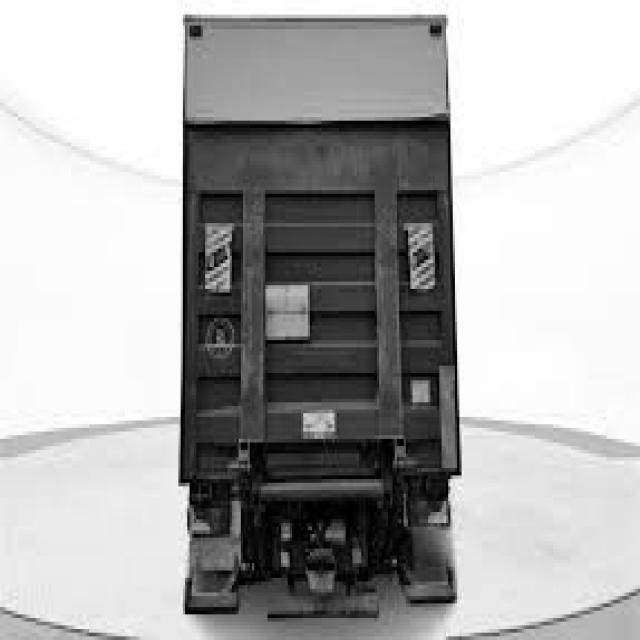truck: (166, 1, 473, 625)
